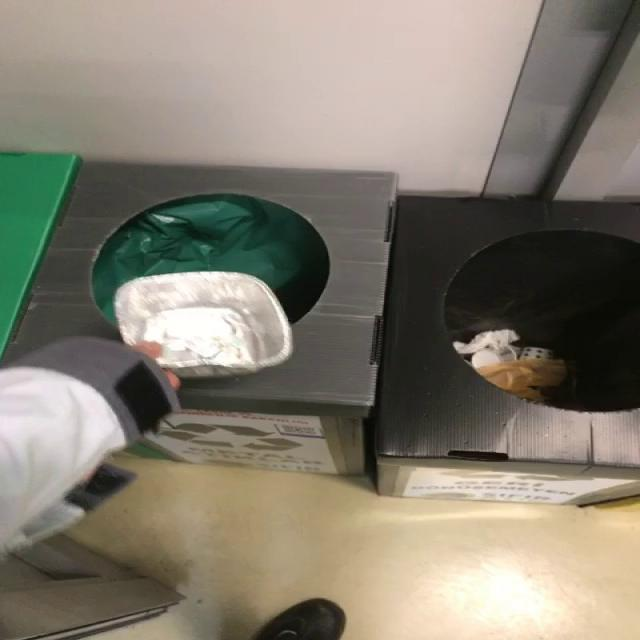metal: (113, 272, 291, 378)
